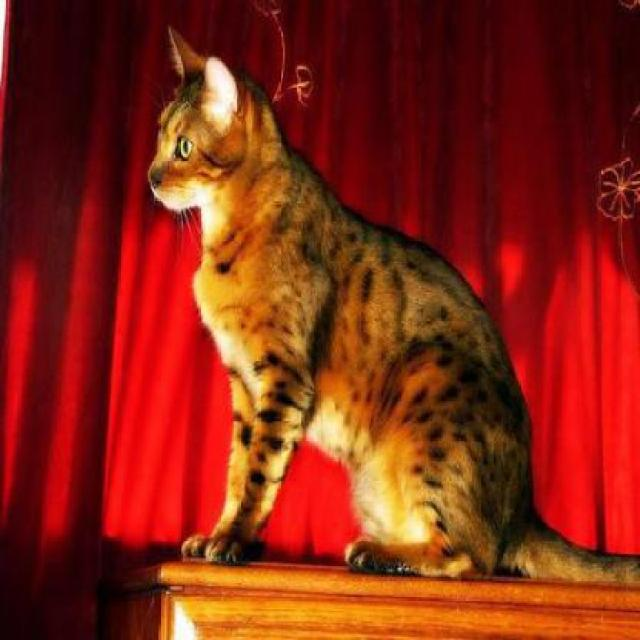cat: (146, 22, 640, 590)
